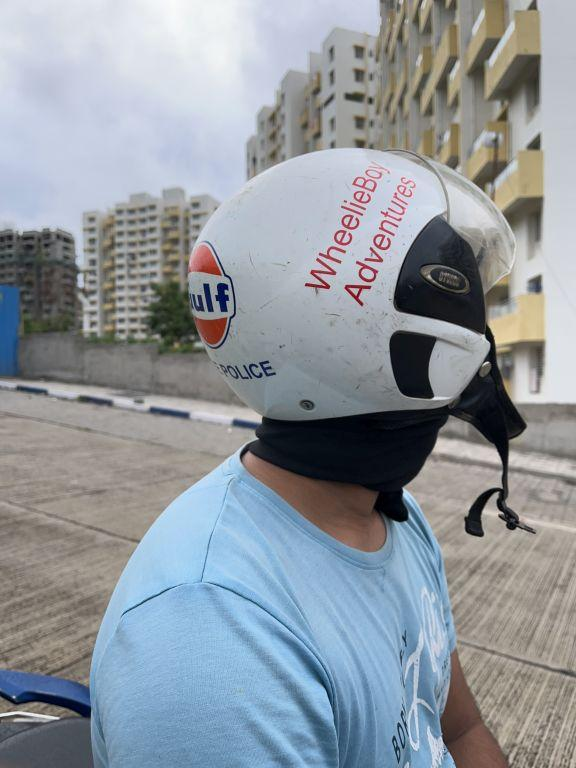helmet: (175, 137, 526, 466)
